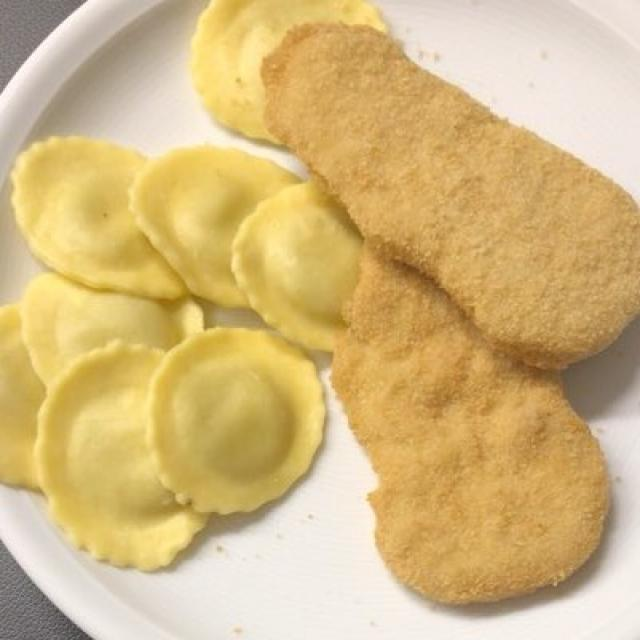pasta: (12, 4, 402, 581)
